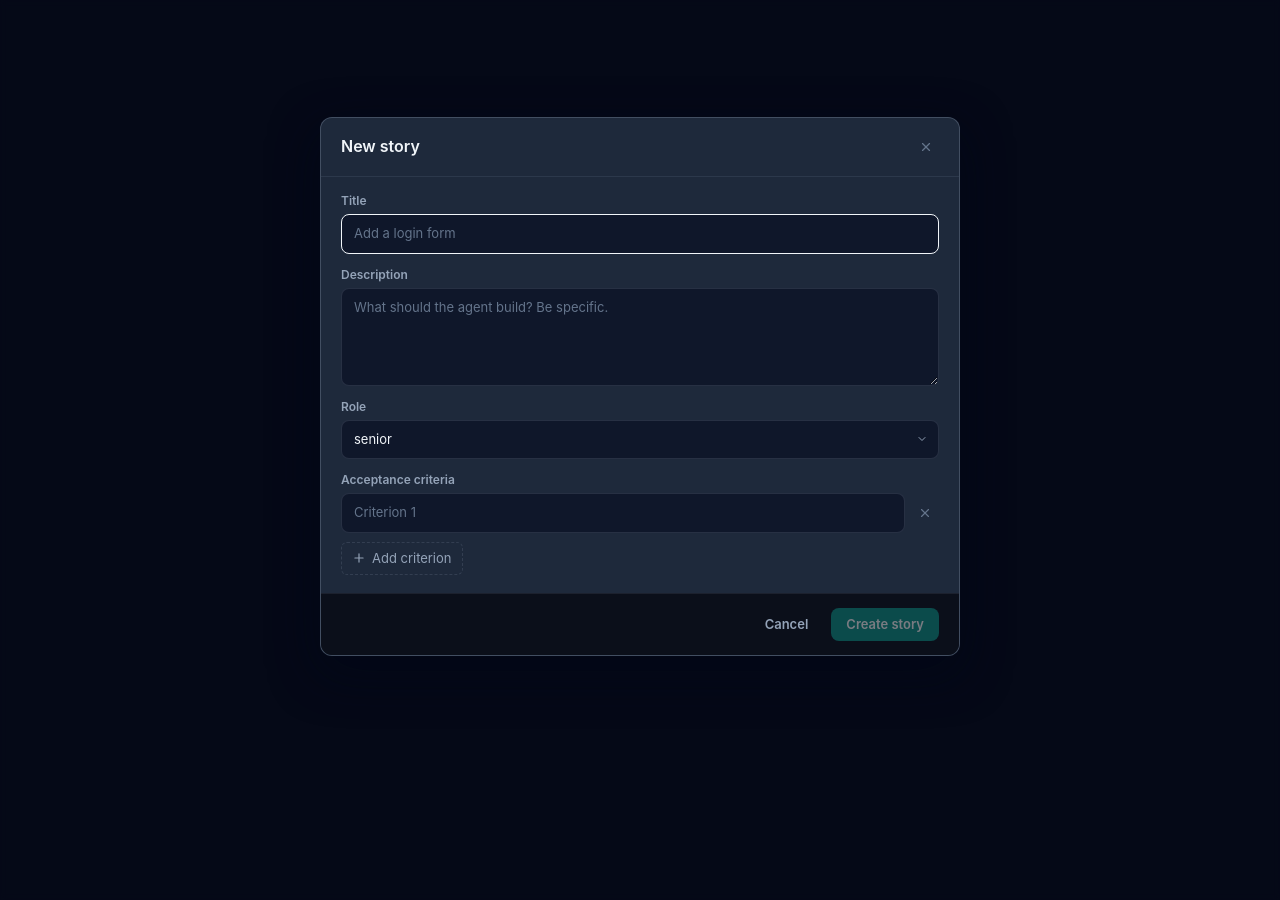
NewStoryModal › disables Create until a title is entered
Expected: the button "Create story" is disabled, x1=831 y1=608 x2=939 y2=641
In the field labelled "Title": [640, 234] box x1=341 y1=214 x2=939 y2=254, type "Add login"
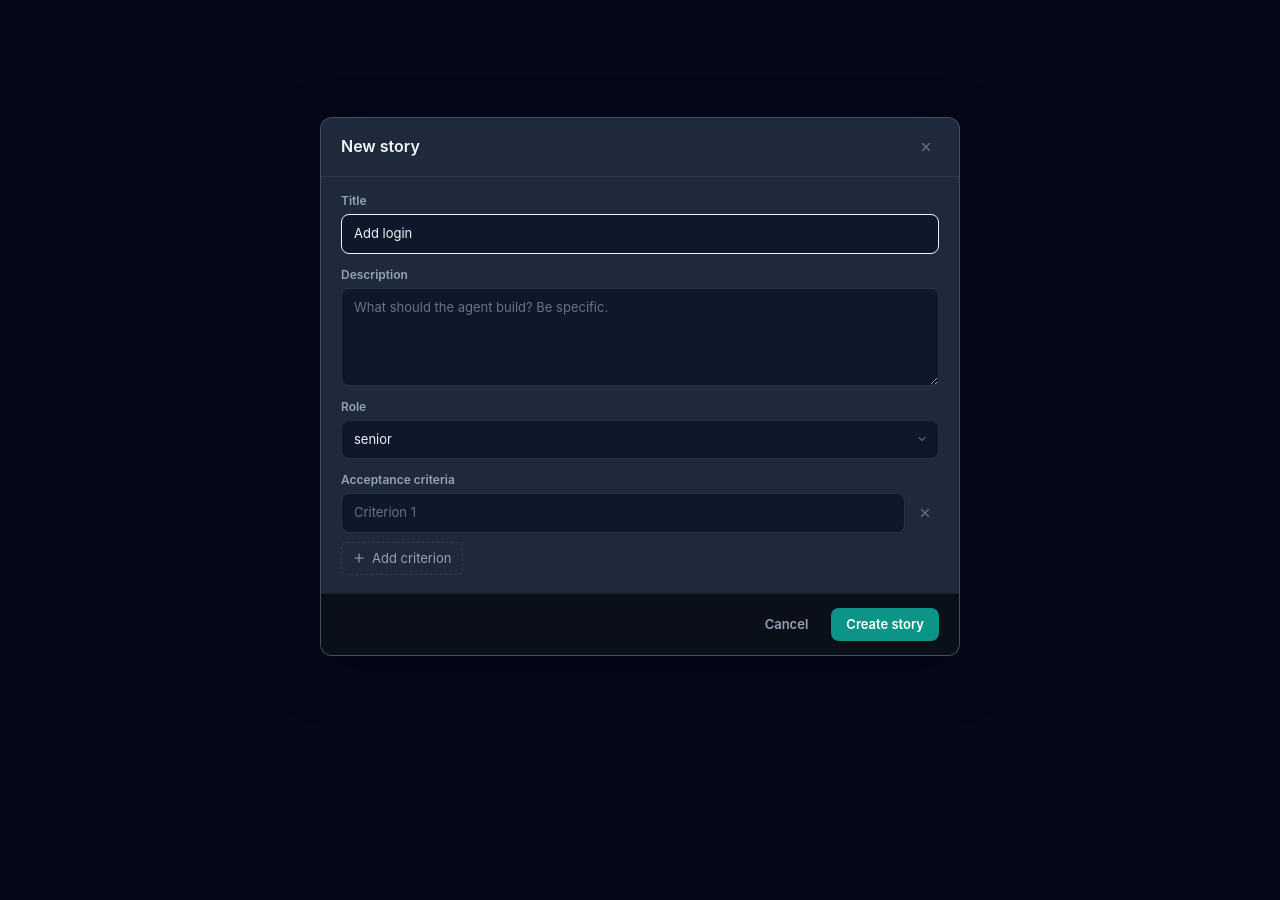
Result: the button "Create story" is enabled at x1=831 y1=608 x2=939 y2=641
